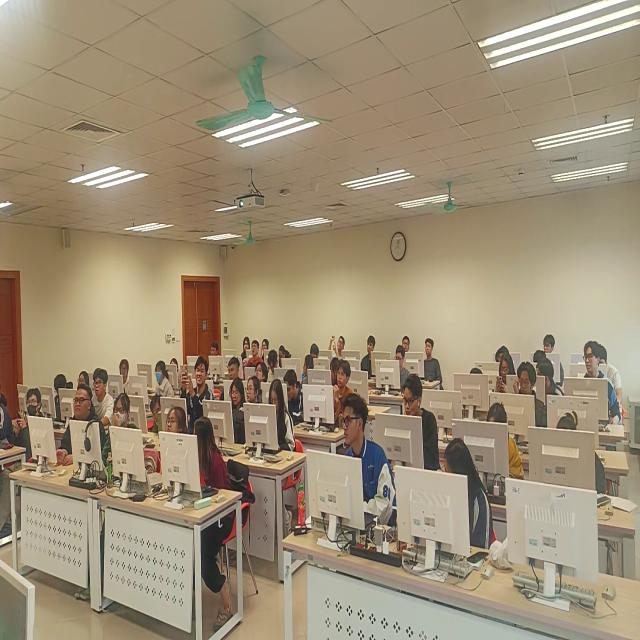raise_head: (342, 390, 394, 532), (445, 436, 496, 548), (403, 372, 445, 471), (58, 382, 107, 465), (584, 340, 621, 426), (11, 387, 48, 456), (331, 358, 355, 426), (92, 366, 115, 425), (422, 336, 445, 389), (110, 393, 136, 430), (164, 404, 189, 439), (361, 333, 378, 379), (154, 359, 175, 396), (1, 380, 12, 449), (247, 373, 264, 410), (245, 338, 265, 368), (226, 354, 242, 384), (543, 330, 560, 353), (119, 356, 130, 390), (255, 361, 269, 383), (78, 369, 92, 387), (241, 334, 251, 357), (402, 335, 413, 352), (210, 339, 220, 357), (263, 338, 272, 354)
using_computer: (556, 413, 607, 498), (486, 398, 524, 486), (267, 378, 297, 453), (517, 361, 549, 430), (599, 343, 625, 401), (283, 368, 306, 424), (227, 376, 245, 433), (54, 371, 72, 422), (393, 343, 411, 389), (268, 349, 285, 383), (149, 394, 163, 434), (330, 351, 341, 385), (495, 344, 510, 361), (209, 338, 221, 359), (278, 343, 291, 361), (534, 347, 548, 363), (467, 366, 485, 377), (310, 343, 322, 359), (171, 357, 180, 377)
using_phone: (179, 354, 215, 423), (494, 352, 518, 394), (329, 331, 348, 359)
